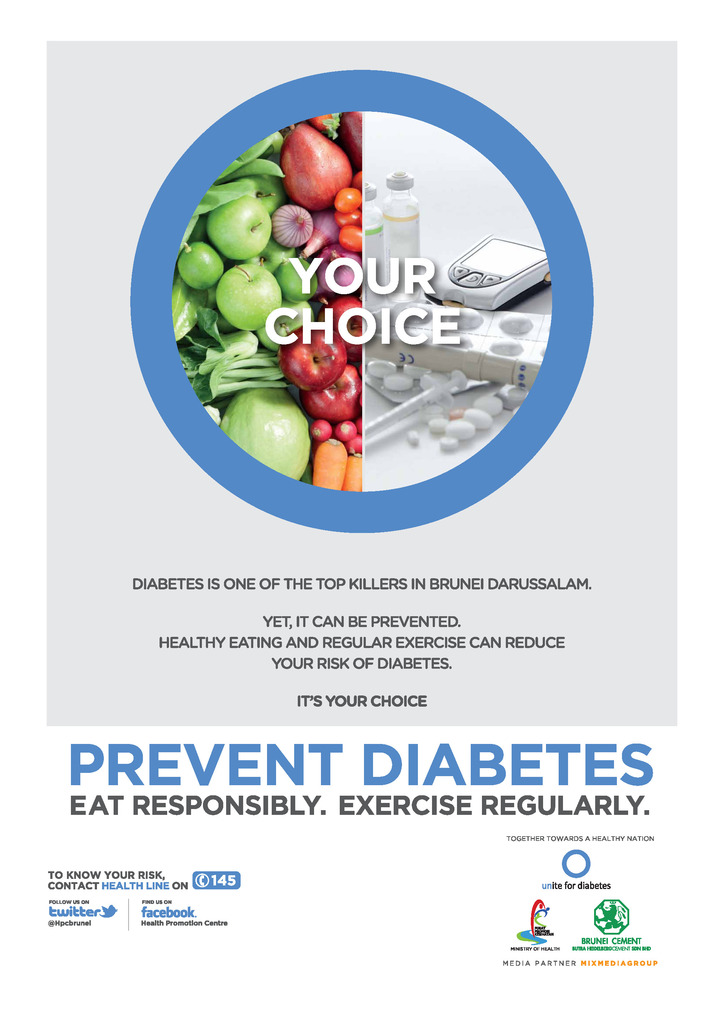Apple: (174, 174, 366, 417), (281, 118, 358, 204)
